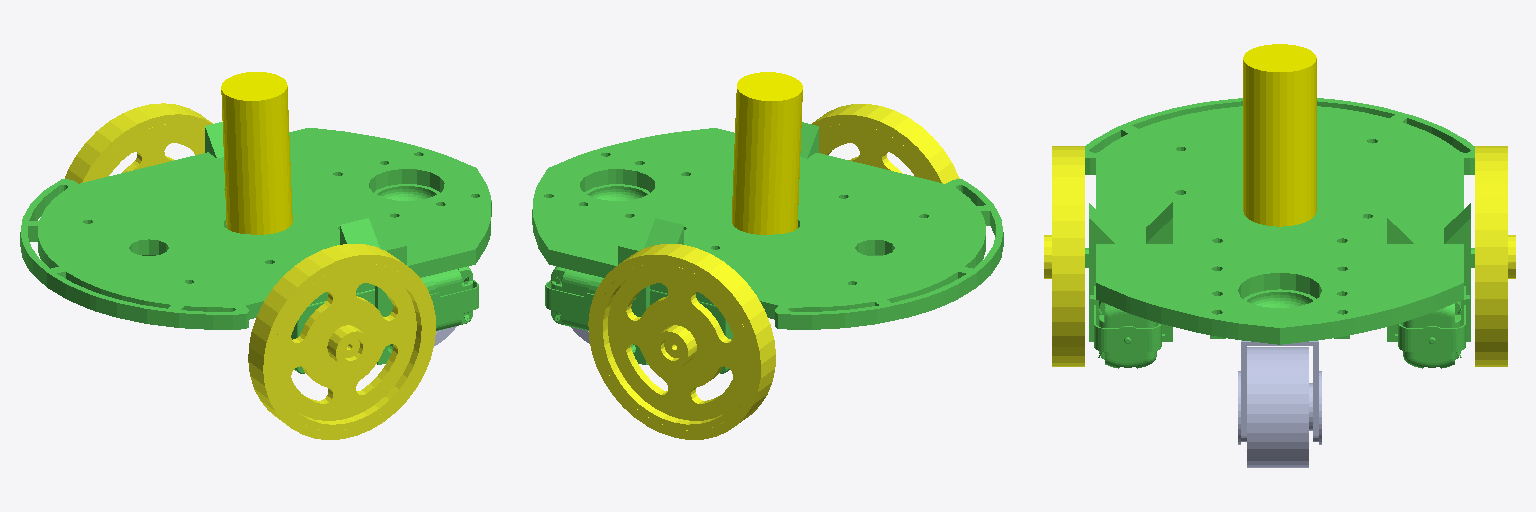
URDF robot description (mobile_robot):
<!--?xml version="1.0" encoding="utf-8"?-->
<!-- This URDF was automatically created by SolidWorks to URDF Exporter! Originally created by [author] ([email redacted]) 
     Commit Version: 1.6.0-1-g15f4949  Build Version: 1.6.7594.29634
     For more information, please see http://wiki.ros.org/sw_urdf_exporter -->
<!--robot name="robot"-->
<robot xmlns:xacro="http://www.ros.org/wiki/xacro" name="mobile_robot">
  <link name="base_link">
    <inertial>
      <origin xyz="0.0069473 1.6133E-06 -0.0058463" rpy="0 0 0" />
      <mass value="0.12" />
      <inertia 
        ixx="0.0001"
        ixy="0"
        ixz="0"
        iyy="0.0003"
        iyz="0"
        izz="0.0002"  />
    </inertial>
    <visual>
      <origin xyz="0 0 0" rpy="0 0 0" />
      <geometry>
        <mesh filename="package://robot/meshes/base_link.STL" />
      </geometry>
      <material name="">
        <color rgba="0.38824 0.85882 0.38824 0.3" />
      </material>
    </visual>
    <collision>
      <origin xyz="0 0 0" rpy="0 0 0" />
      <geometry>
        <mesh filename="package://robot/meshes/base_link.STL" />
      </geometry>
    </collision>
  </link>
  
  <gazebo reference="base_link">
    <mu1>200</mu1>
    <mu2>200</mu2>
    <kp>1000000</kp>
    <kd>1</kd>
    <material>Gazebo/Green</material>
  </gazebo>
  
  <link name="Rueda_Izquierda_Link">
    <inertial>
      <origin xyz="7.6328E-16 -8.3267E-17 -0.0013855" rpy="0 0 0" />
      <mass value="0.1403" />
      <inertia
        ixx="0.000037815"
        ixy="0"
        ixz="0"
        iyy="0.000037816"
        iyz="0"
        izz="0.000074346" />
    </inertial>
    <visual>
      <origin xyz="0 0 0" rpy="0 0 0" />
      <geometry>
        <mesh filename="package://robot/meshes/Rueda_Izquierda_Link.STL" />
      </geometry>
      <material name="">
        <color rgba="0.98431 1 0.18431 1" />
      </material>
    </visual>
    <collision>
      <origin xyz="0 0 0" rpy="0 0 0" />
      <geometry>
        <mesh filename="package://robot/meshes/Rueda_Izquierda_Link.STL" />
      </geometry>
    </collision>
  </link>
  
  <joint name="Rueda_Izquierda_joint" type="continuous">
    <origin xyz="-0.0037465 0.059006 -0.015799" rpy="-1.5708 0 0" />
    <parent link="base_link" />
    <child link="Rueda_Izquierda_Link" />
    <axis xyz="0 0 1" />
    <limit effort="100" velocity="100" />
    <dynamics damping="0.1" friction="0.1" />
  </joint>
  
  <gazebo reference="Rueda_Izquierda_Link">
    <mu1>200</mu1>
    <mu2>200</mu2>
    <kp>1000000</kp>
    <kd>1</kd>
    <material>Gazebo/Yellow</material>
  </gazebo>
  
  <link name="Rueda_Derecha_Link">
    <inertial>
      <origin xyz="-7.494E-16 -8.3267E-17 0.0013855" rpy="0 0 0" />
      <mass value="0.1403" />
      <inertia
        ixx="0.000037815"
        ixy="0"
        ixz="0"
        iyy="0.000037816"
        iyz="0"
        izz="0.000074346" />
    </inertial>
    <visual>
      <origin xyz="0 0 0" rpy="0 0 0" />
      <geometry>
        <mesh filename="package://robot/meshes/Rueda_Derecha_Link.STL" />
      </geometry>
      <material name="">
        <color rgba="0.98431 1 0.18431 1" />
      </material>
    </visual>
    <collision>
      <origin xyz="0 0 0" rpy="0 0 0" />
      <geometry>
        <mesh filename="package://robot/meshes/Rueda_Derecha_Link.STL" />
      </geometry>
    </collision>
  </link>
  <joint name="Rueda_Derecha_joint" type="continuous">
    <origin xyz="-0.0037465 -0.058994 -0.015799" rpy="1.5708 0 3.1416" />
    <parent link="base_link" />
    <child link="Rueda_Derecha_Link" />
    <axis xyz="0 0 1" />
    <limit effort="100" velocity="100" />
    <dynamics damping="0.1" friction="0.1" />
  </joint>
  
  <gazebo reference="Rueda_Derecha_Link">
    <mu1>200</mu1>
    <mu2>200</mu2>
    <kp>1000000</kp>
    <kd>1</kd>
    <material>Gazebo/Yellow</material>
  </gazebo>
  
  <link name="Base_castor_Link">
    <inertial>
      <origin xyz="7.2582E-05 6.9389E-18 0.022644" rpy="0 0 0" />
      <mass value="0.5" />
      <inertia
        ixx="0.000004521"
        ixy="0"
        ixz="0"
        iyy="0.0000024423"
        iyz="0"
        izz="0.0000035365" />
    </inertial>
    <visual>
      <origin xyz="0 0 0" rpy="0 0 0" />
      <geometry>
        <mesh filename="package://robot/meshes/Base_castor_Link.STL" />
      </geometry>
      <material name="">
        <color rgba="0.79216 0.81961 0.93333 1" />
      </material>
    </visual>
    <collision>
      <origin xyz="0 0 0" rpy="0 0 0" />
      <geometry>
        <mesh filename="package://robot/meshes/Base_castor_Link.STL" />
      </geometry>
    </collision>
  </link>
  <joint name="Base_castor_joint" type="continuous">
    <origin xyz="0.051854 0 -0.008" rpy="-3.1416 0 0" />
    <parent link="base_link" />
    <child link="Base_castor_Link" />
    <axis xyz="0 0 1" />
    <limit effort="100" velocity="100" />
    <!--dynamics damping="0.1" friction="0.1" /-->
  </joint>
  
  <gazebo reference="Base_castor_Link">
    <mu1>0.1</mu1>
    <mu2>0.1</mu2>
    <kp>1000000</kp>
    <kd>1</kd>
    <material>Gazebo/Gray</material>
  </gazebo>
  
  <link name="Rueda_Castor_Link">
    <inertial>
      <origin xyz="0 1.7347E-18 0" rpy="0 0 0" />
      <mass value="0.0828739992319076" />
      <inertia
        ixx="0.0000085831"
        ixy="0"
        ixz="0"
        iyy="0.0000085831"
        iyz="0"
        izz="0.000013936" />
    </inertial>
    <visual>
      <origin xyz="0 0 0" rpy="0 0 0" />
      <geometry>
        <mesh filename="package://robot/meshes/Rueda_Castor_Link.STL" />
      </geometry>
      <material name="">
        <color rgba="0.79216 0.81961 0.93333 1" />
      </material>
    </visual>
    <collision>
      <origin xyz="0 0 0" rpy="0 0 0" />
      <geometry>
        <mesh filename="package://robot/meshes/Rueda_Castor_Link.STL" />
      </geometry>
    </collision>
  </link>
  <joint name="Rueda_Castor_joint" type="continuous">
    <origin xyz="0 0.0005 0.026988" rpy="1.5708 -1.5708 0" />
    <parent link="Base_castor_Link" />
    <child link="Rueda_Castor_Link" />
    <axis xyz="0 0 1" />
    <limit effort="100" velocity="100" />
    <!--dynamics damping="0.05" friction="0.05" /-->
  </joint>
  
  <gazebo reference="Rueda_Castor_Link">
    <mu1>0.1</mu1>
    <mu2>0.1</mu2>
    <kp>1000000</kp>
    <kd>1</kd>
    <material>Gazebo/Orange</material>
  </gazebo>
  

  <link name="Lidar_link">
  <inertial>
    <origin xyz="0 0 0.0" rpy="0 0 0.0"/>
    <mass value="0.01"/>
    <inertia ixx="0.0001"  ixy="0"  ixz="0" iyy="0.0001" iyz="0" izz="0.0001" />
  </inertial>
  <visual>
    <origin xyz="0 0 0" rpy="0 0 0"/>
    <geometry>
       <cylinder radius="0.01" length="0.05"/>
    </geometry>
    <material
      name="">
      <color
        rgba="1 1 0 0.5" />
    </material>
  </visual>
  <collision>
    <origin xyz="0 0 0.0" rpy="0 0 0"/>
    <geometry>
       <cylinder radius="0.01" length="0.05"/>
    </geometry>
    <material
      name="">
      <color
        rgba="1 1 1 0.5" />
    </material>
  </collision>
  </link>


  <joint
    name="Lidar_joint"
    type="fixed">
    <origin
      xyz="0.0 0 0.02"
      rpy="0 -0.04 0" /> <!-- Disminuye la inclinación a -0.04 radianes -->
    <parent
      link="base_link" />
    <child
      link="Lidar_link" />
    <axis
      xyz="1 0 0" />
  </joint>

  
  <link name="imu_link"/>
  <joint
    name="imu_joint"
    type="fixed">
    <origin
      xyz="0.0 0 0.0"
      rpy="0 0 0" />
    <parent
      link="base_link" />
    <child
      link="imu_link" />
    <axis
      xyz="1 0 0" />
  </joint>


  <!--LIDAR CONFIGURATION-->

  <gazebo reference="Lidar_link">
    <sensor name="lidar" type="ray">
        <always_on>true</always_on>
        <visualize>true</visualize>
        <update_rate>20</update_rate>
        <ray>
            <scan>
                <horizontal>
                    <samples>360</samples>
                    <resolution>1.000000</resolution>
                    <min_angle>-3.1416</min_angle> <!-- -90 grados -->
                    <max_angle>3.1416</max_angle>  <!-- 90 grados -->
                </horizontal>
            </scan>
            <range>
                <min>0.07</min>
                <max>1.5</max> <!-- Distancia máxima reducida a la mitad -->
                <resolution>0.015</resolution>
            </range>
            <noise>
                <type>gaussian</type>
                <mean>0.0</mean>
                <stddev>0.01</stddev>
            </noise>
        </ray>
        <plugin name="scan" filename="libgazebo_ros_ray_sensor.so">
            <ros>
                <remapping>~/out:=laser_scan</remapping>
            </ros>
            <output_type>sensor_msgs/LaserScan</output_type>
            <frame_name>Lidar_link</frame_name>
        </plugin>
    </sensor>
</gazebo>



  <gazebo reference="Lidar_link">
    <mu1>0.1</mu1>
    <mu2>0.1</mu2>
    <kp>1000000</kp>
    <kd>1</kd>
    <material>Gazebo/Yellow</material>
  </gazebo>

   <!--IMU sensor-->

  <gazebo reference="imu_link">
    <gravity>true</gravity>
    <sensor name="imu_sensor" type="imu">
      <always_on>true</always_on>
      <update_rate>100</update_rate>
      <visualize>true</visualize>
      <topic>imu_data</topic>
      <plugin filename="libgazebo_ros_imu_sensor.so" name="imu_plugin">
        <topicName>imu_data</topicName>
        <bodyName>imu_link</bodyName>
        <updateRateHZ>10.0</updateRateHZ>
        <gaussianNoise>0.005</gaussianNoise>
        <xyzOffset>0 0 0</xyzOffset>
        <rpyOffset>0 0 0</rpyOffset>
        <frameName>imu_link</frameName>
        <initialOrientationAsReference>true</initialOrientationAsReference>
      </plugin>
      <pose>0 0 0 0 0 0</pose>
    </sensor>
  </gazebo>
  
  <!-- ESTA PARTE ES LA DE MOVIMIENTO -->
  <gazebo>
    <plugin name="two_wheeled_robot_diff_drive" filename="libgazebo_ros_diff_drive.so">
 
      <update_rate>100</update_rate>
      
      <!-- wheels -->
      <left_joint>Rueda_Izquierda_joint</left_joint>
      <right_joint>Rueda_Derecha_joint</right_joint>
 
      <!-- kinematics -->
      <wheel_separation>0.15</wheel_separation>
      <wheel_diameter>0.06</wheel_diameter>
 
      <!-- limits -->
      <max_wheel_torque>20</max_wheel_torque>
      <max_wheel_acceleration>20.0</max_wheel_acceleration>
 
      <!-- Receive velocity commands on this ROS topic -->
      <command_topic>cmd_vel</command_topic>
 
      <!-- output -->
      <!-- When false, publish no wheel odometry data to a ROS topic -->
      <publish_odom>true</publish_odom>
 
      <!-- When true, publish coordinate transform from odom to base_footprint -->
      <!-- I usually use the robot_localization package to publish this transform -->  
      <publish_odom_tf>true</publish_odom_tf>
     
      <!-- When true, publish coordinate transform from base_link to the wheels -->
      <!-- The robot_state_publisher package is often used to publish this transform -->  
      <publish_wheel_tf>true</publish_wheel_tf>
 
      <odometry_topic>odom</odometry_topic>
      <odometry_frame>odom_link</odometry_frame>
      <robot_base_frame>base_link</robot_base_frame>
 
      <odometry_source>1</odometry_source>
      <ros>
        <remapping>odom:=wheel/odometry</remapping>
      </ros>
    </plugin>
  </gazebo>

  <gazebo>
    <plugin name="gazebo_ros_joint_state_publisher"
        filename="libgazebo_ros_joint_state_publisher.so">
        <update_rate>100</update_rate>
        <joint_name>Base_castor_joint</joint_name>
        <joint_name>Rueda_Castor_joint</joint_name>
    </plugin>
  </gazebo>
  
</robot>

--- What the picture shows (computed from the rendered views, not written in the file) ---
Views: 3 orthographic renders of the robot side by side, from view 1: azimuth 30°, elevation 25°; view 2: azimuth 150°, elevation 25°; view 3: azimuth 270°, elevation 25°.
Model mobile_robot with 7 links and 6 joints (4 continuous, 2 fixed), rooted at base_link, posed all joints at 0.
Visible links, largest first — view 1: base_link, Rueda_Derecha_Link, Lidar_link, Rueda_Izquierda_Link; view 2: base_link, Rueda_Izquierda_Link, Lidar_link, Rueda_Derecha_Link; view 3: base_link, Lidar_link, Rueda_Izquierda_Link, Rueda_Derecha_Link, Rueda_Castor_Link, Base_castor_Link.
Link boxes in pixels (x1,y1,x2,y2): base_link: (20,122,491,373); Rueda_Derecha_Link: (248,244,435,439); Lidar_link: (221,72,292,234); Rueda_Izquierda_Link: (65,103,212,183); base_link: (532,122,1003,373); Rueda_Izquierda_Link: (588,244,775,439); Lidar_link: (732,72,802,234); Rueda_Derecha_Link: (812,104,959,183); base_link: (1085,98,1474,368); Lidar_link: (1243,44,1316,226); Rueda_Izquierda_Link: (1475,146,1515,366); Rueda_Derecha_Link: (1044,146,1084,366); Rueda_Castor_Link: (1247,347,1308,467); Base_castor_Link: (1238,340,1321,444).
Bounding box of the posed robot: 0.1489 × 0.128 × 0.0968 m (x, y, z).
Meshes: 5 distinct files referenced, 5 mesh visuals loaded (5 binary STL).
